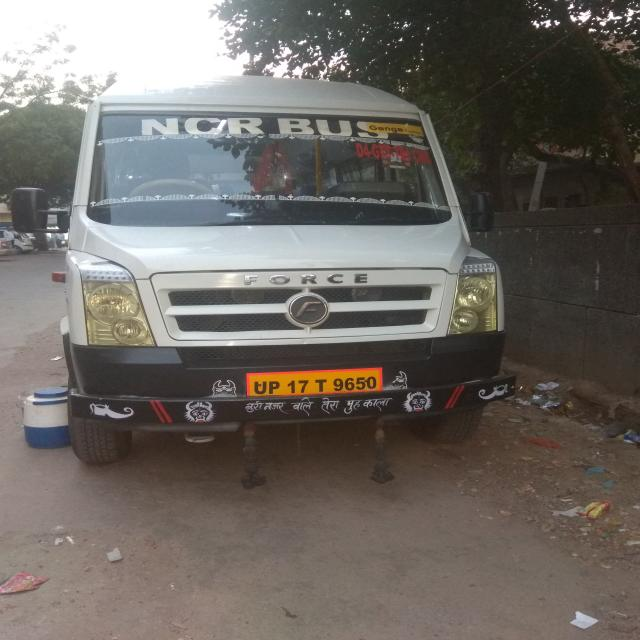Bus: (48, 75, 524, 468)
